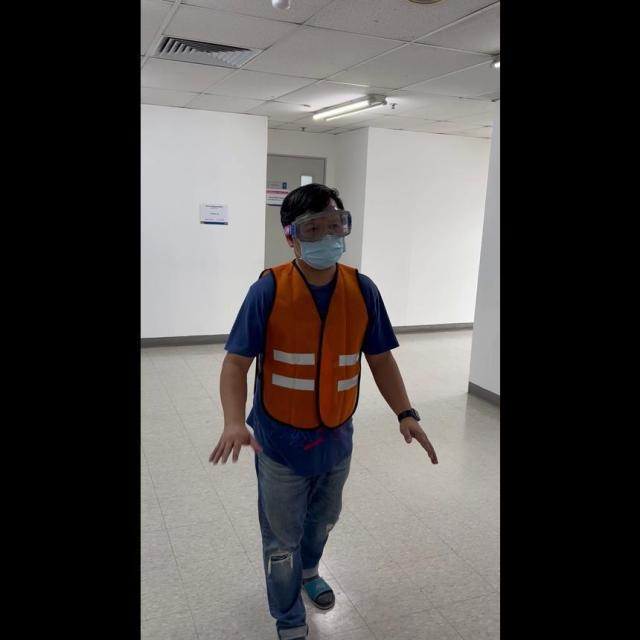bare_hand: (208, 417, 257, 465), (396, 412, 438, 464)
